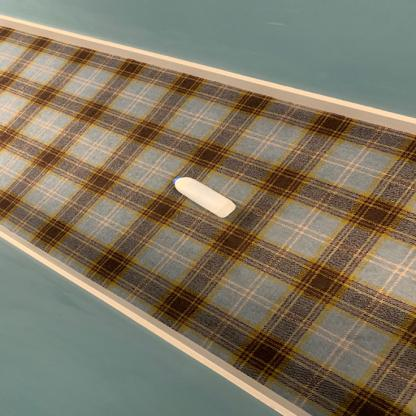trash: (172, 178, 240, 218)
